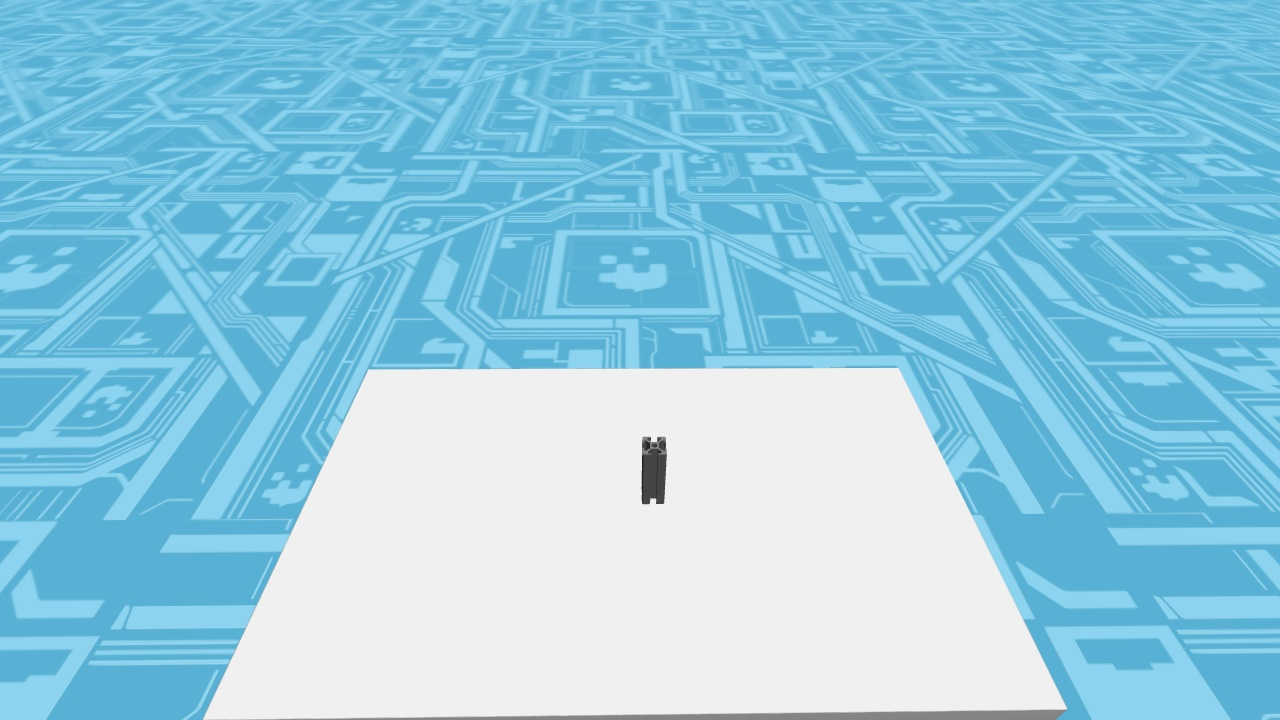extrusion: (642, 437, 666, 503)
